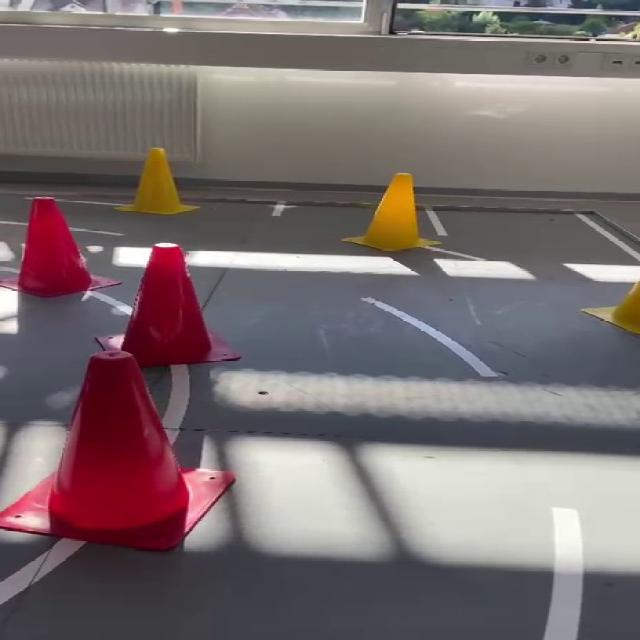Cone-red: (0, 350, 233, 550), (121, 243, 237, 368), (18, 198, 92, 296), (168, 313, 179, 320)
Cones-yellow: (343, 173, 439, 251), (114, 148, 197, 215), (583, 279, 639, 335)
